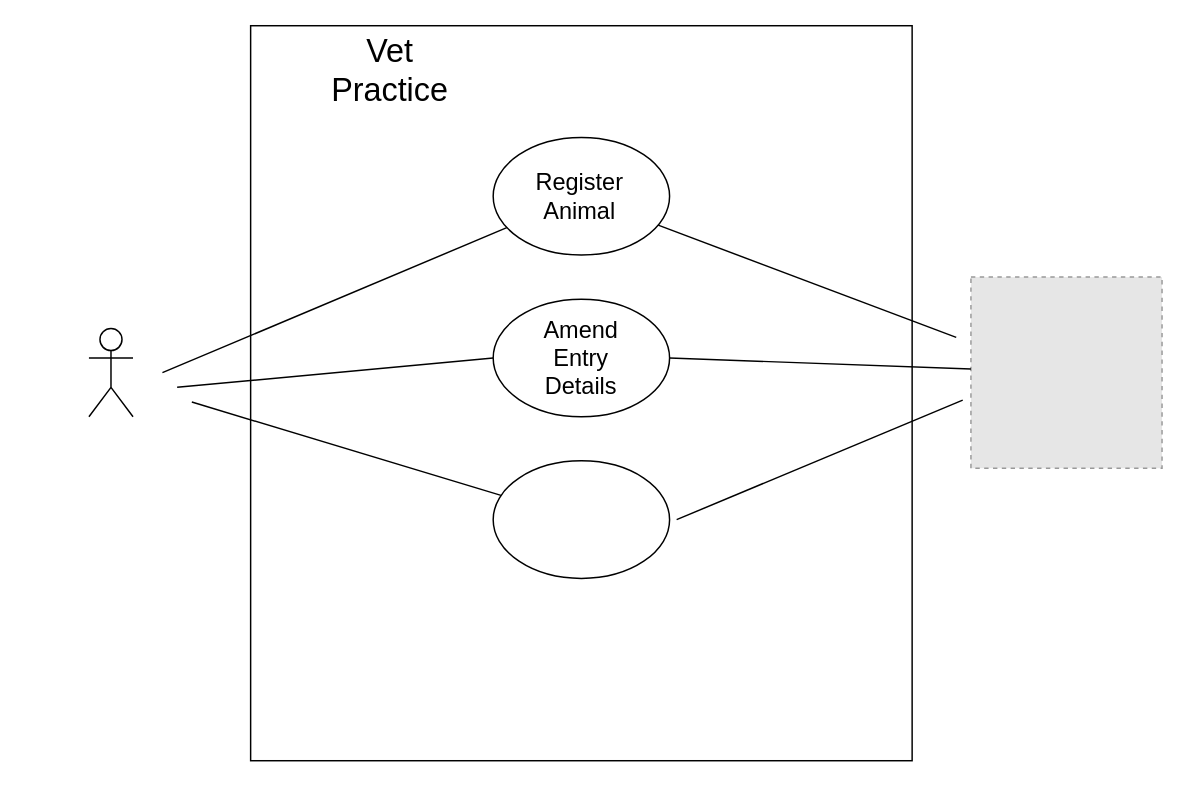
Image size: 1188x786. Some labels were removed from this diagram. Grey dashed boxes stand in for pictures. The centre of each missing label's shape, as x and y in pixels:
"Delete" goes at point 581,518.
"Management" goes at point 110,372.
